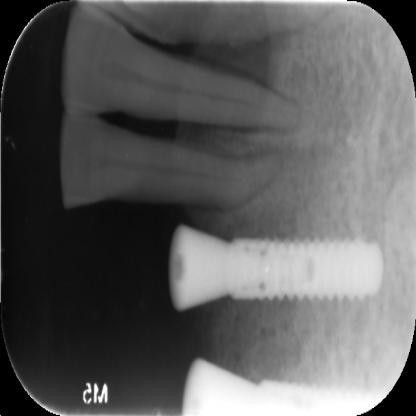ITI: (228, 222, 385, 322)
